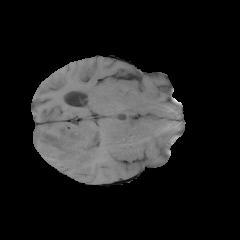glioma: (34, 105, 101, 174)
